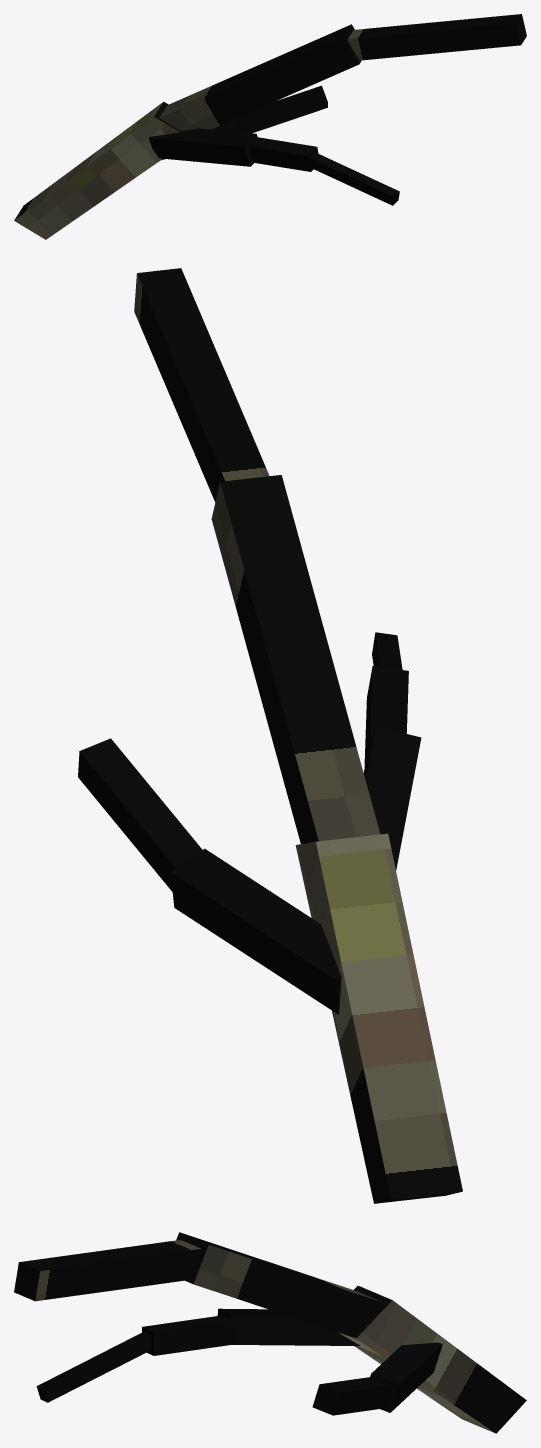
Rendered from larch_twig_branch_up_diagonal.obj.
3 views of the same model, one above another, from view 1: azimuth 30°, elevation 25°; view 2: azimuth 150°, elevation 25°; view 3: azimuth 270°, elevation 25° (orthographic). The views are drawn at different scales.
Visible parts, largest first — view 1: cube; view 2: cube; view 3: cube.
Boxes of the visible parts, box(x1,y1,x2,y2) form: cube: box(14, 14, 526, 239); cube: box(78, 268, 462, 1203); cube: box(14, 1232, 526, 1433).
Size of the model in its own units: 1.69 by 1.27 by 1.69.
